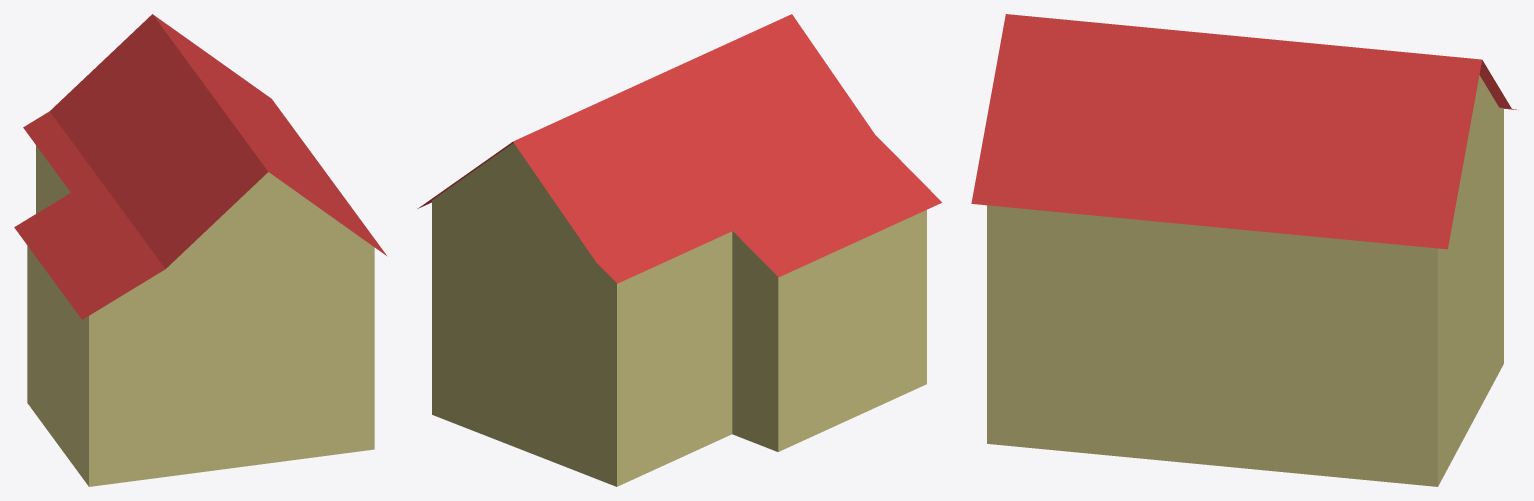
3 views of the same model, side by side, from view 1: azimuth 30°, elevation 25°; view 2: azimuth 150°, elevation 25°; view 3: azimuth 270°, elevation 25° (orthographic). The views are drawn at different scales.
Size of the model in its own units: 19.07 by 21.02 by 15.64.
